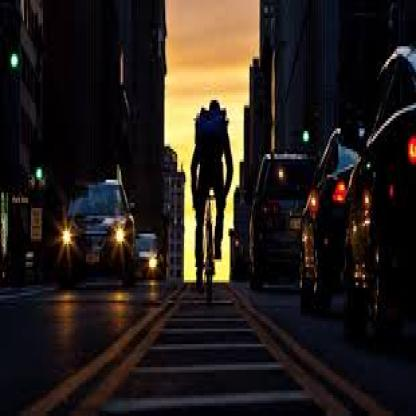car: (346, 44, 416, 342), (247, 153, 307, 282), (59, 180, 135, 276), (308, 125, 350, 288), (137, 227, 167, 279)
